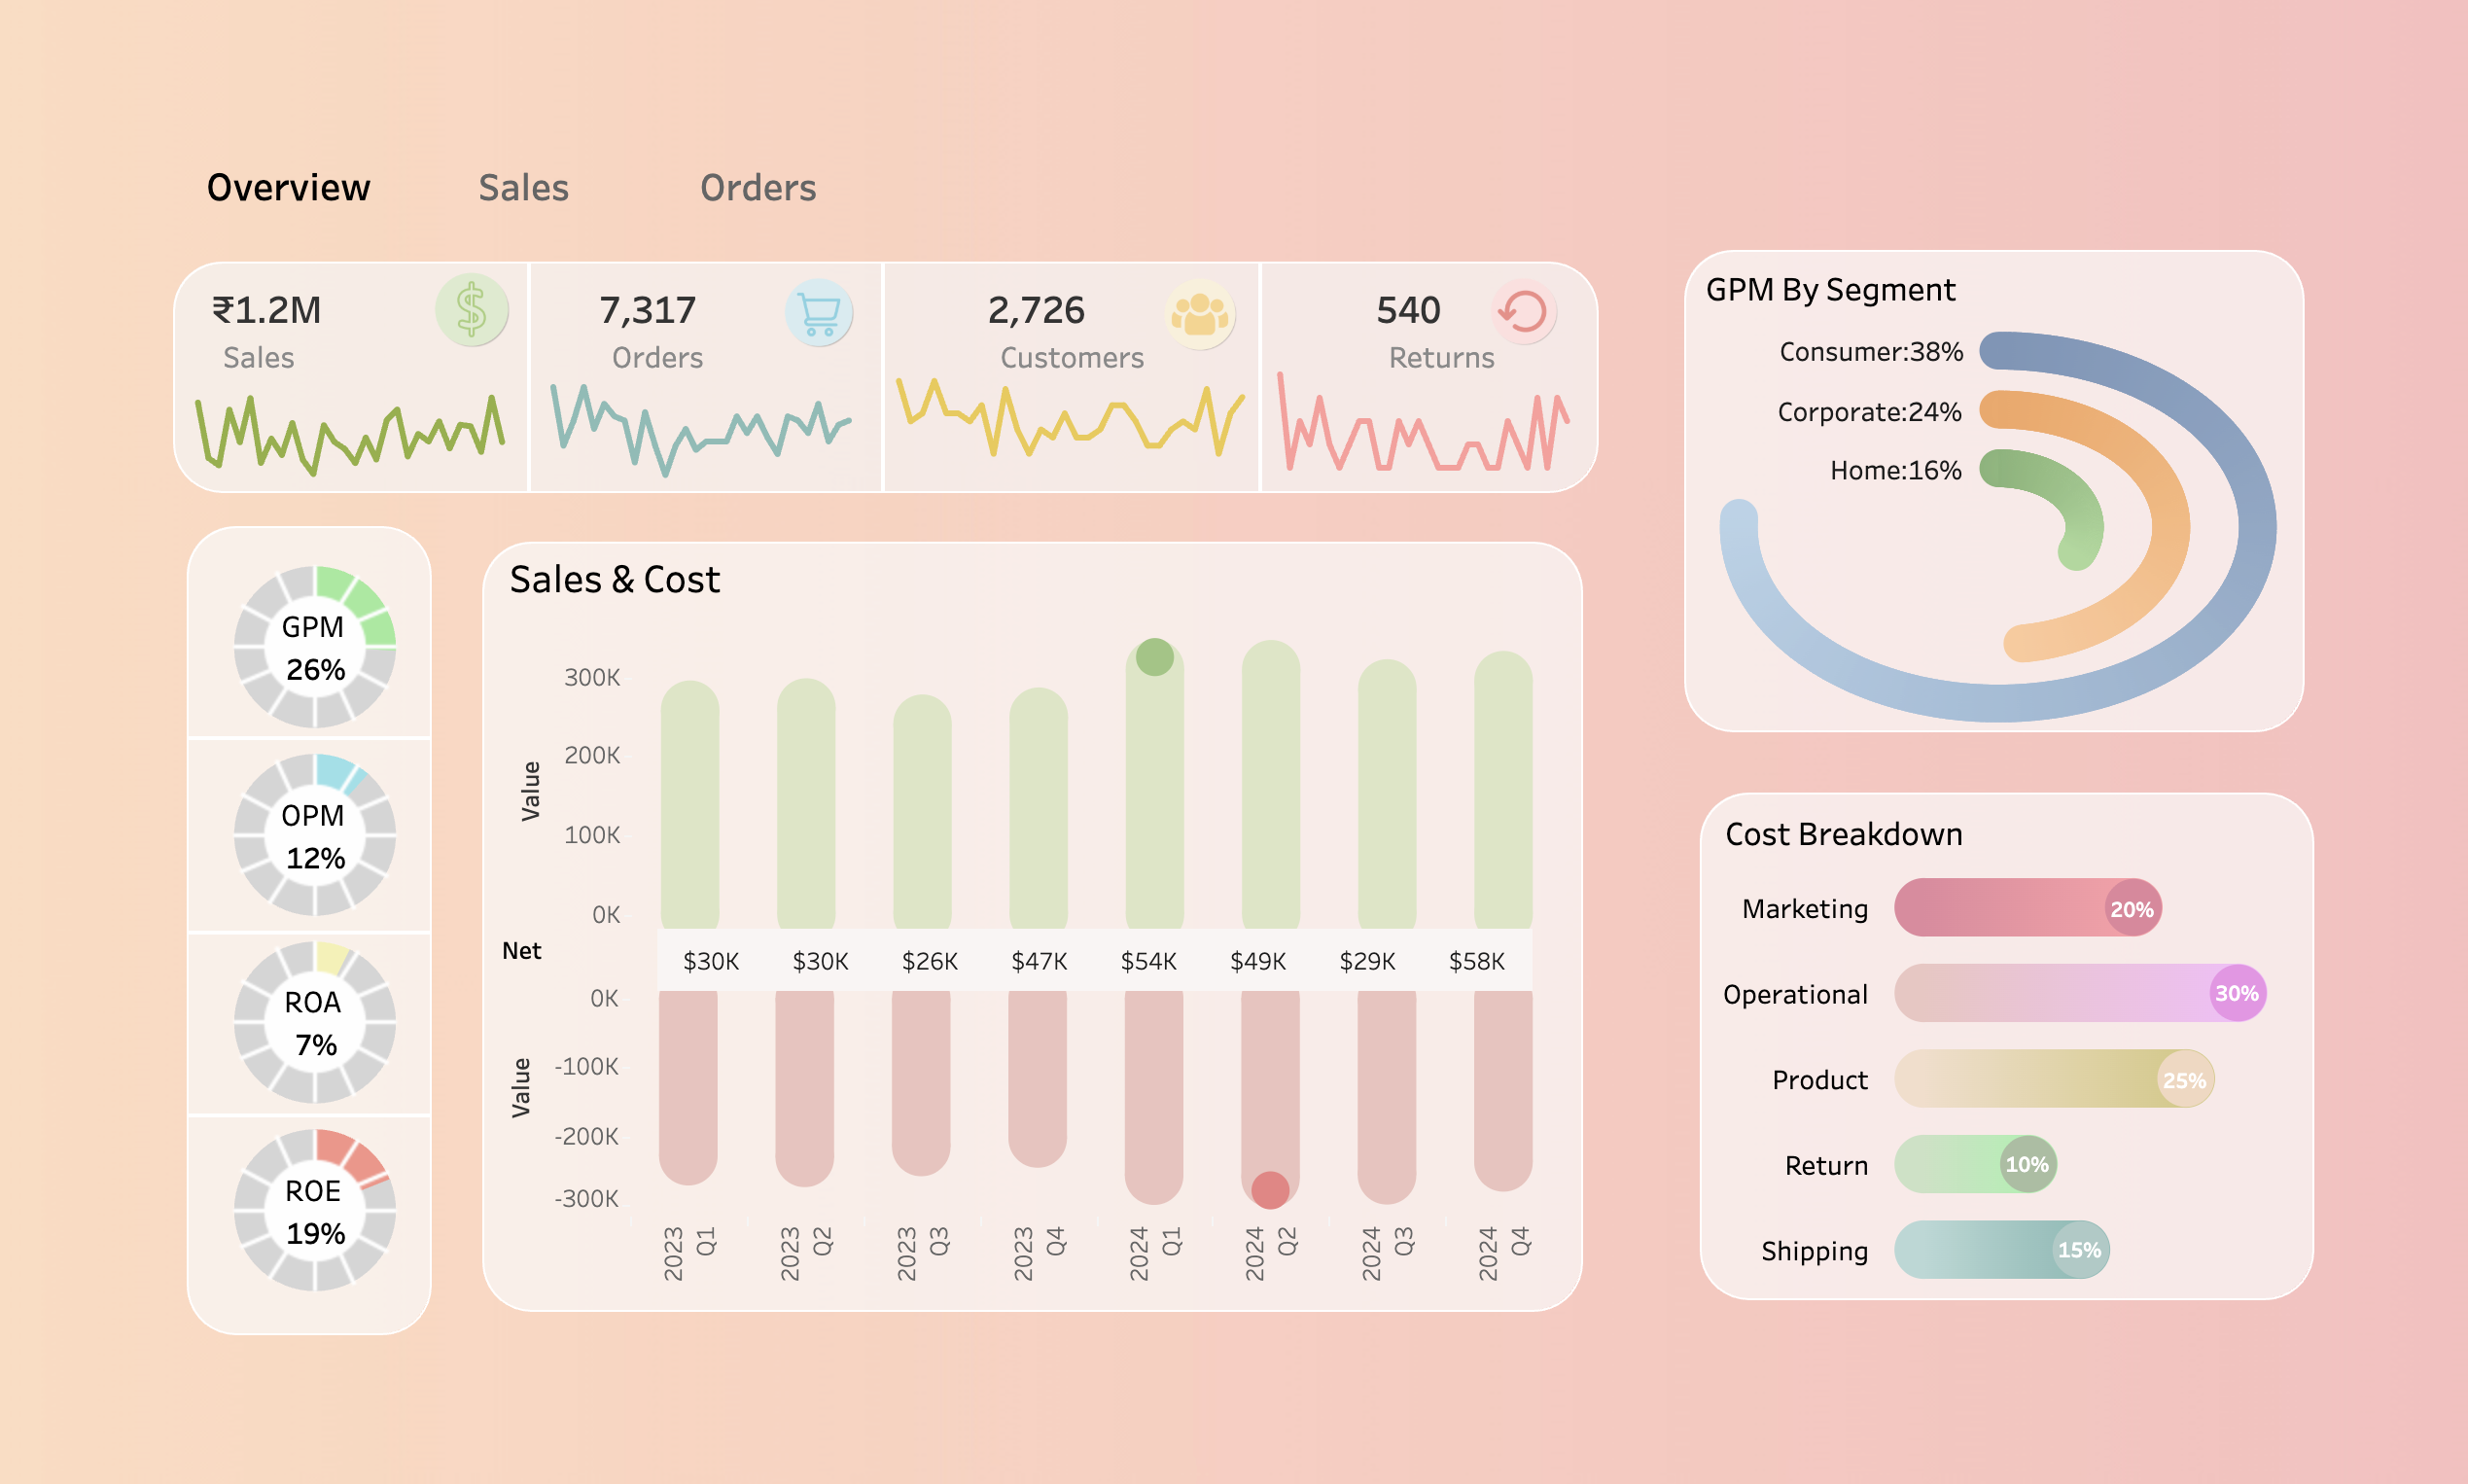

What the dashboard file says about the page in this screenshot:
{"tool":"tableau","page":{"name":"Overview","canvas":[1300,800],"ordinal":1},"visuals":[{"type":"image","param":"Image/Orange - Red Background.png","box":[8,8,1284,784]},{"type":"worksheet","title":"OvBack","mark":"Automatic","box":[64,45,1176,696]},{"type":"text","box":[103,86,121,47]},{"type":"dashboard-object","box":[224,86,121,47]},{"type":"dashboard-object","box":[345,86,120,47]},{"type":"text","box":[892,131,157,62]},{"type":"text","box":[286,149,2,119]},{"type":"text","box":[468,149,2,119]},{"type":"text","box":[662,149,2,119]},{"type":"worksheet","title":"KPI Metrics/Values","mark":"Automatic","box":[119,153,799,62]},{"type":"image","param":"Image/Sales Icon.png","box":[237,153,42,41]},{"type":"image","param":"Image/Orders Icon.png","box":[417,156,40,38]},{"type":"image","param":"Image/Customer Icon.png","box":[612,156,40,41]},{"type":"image","param":"Image/Returns Icon.png","box":[780,156,42,37]},{"type":"worksheet","title":"Radial","mark":"Line","box":[886,176,313,219]},{"type":"worksheet","title":"Spark-Returns","mark":"Automatic","rows":["Returns"],"cols":["Order Date"],"box":[663,195,168,72]},{"type":"worksheet","title":"Spark-Customers","mark":"Automatic","rows":["Customer ID"],"cols":["Order Date"],"box":[465,202,201,75]},{"type":"worksheet","title":"Spark-Orders","mark":"Automatic","rows":["Order ID"],"cols":["Order Date"],"box":[289,207,173,69]},{"type":"worksheet","title":"Spark-Sales","mark":"Automatic","rows":["Sales"],"cols":["Order Date"],"box":[106,215,178,52]},{"type":"text","box":[277,280,123,62]},{"type":"worksheet","title":"Seg Donuts","mark":"Automatic","rows":["Metric"],"cols":["Calculation_540150528706621445","Calculation_540150528706629639"],"box":[119,299,116,386]},{"type":"worksheet","title":"Sales Bar","mark":"Automatic","rows":["Sales"],"cols":["Order Date"],"box":[272,337,546,169]},{"type":"text","box":[111,393,125,2]},{"type":"text","box":[902,411,157,62]},{"type":"worksheet","title":"Bars with Bubbles","mark":"Automatic","rows":["Type of Cost"],"cols":["Cost"],"box":[901,459,288,220]},{"type":"text","box":[273,472,123,62]},{"type":"worksheet","title":"Net","mark":"Automatic","cols":["Calculation_540150528714313744"],"box":[353,492,450,32]},{"type":"text","box":[111,493,125,2]},{"type":"worksheet","title":"Cost Bar","mark":"Automatic","rows":["Calculation_580471819169869830"],"cols":["Quarter-Year"],"box":[267,508,551,177]},{"type":"text","box":[111,587,125,2]}]}

Visuals, with their boxes in screenshot pixels (x1, y1, x2, y2), scaled from the page's 1300x800 canvas onto the 2468x1484 screenshot:
image: bbox=[16, 15, 2452, 1469]
"OvBack" worksheet: bbox=[122, 84, 2354, 1374]
text: bbox=[195, 159, 425, 247]
dashboard-object: bbox=[425, 159, 655, 247]
dashboard-object: bbox=[655, 159, 883, 247]
text: bbox=[1693, 243, 1992, 358]
text: bbox=[543, 276, 546, 497]
text: bbox=[889, 276, 893, 497]
text: bbox=[1256, 276, 1260, 497]
"KPI Metrics/Values" worksheet: bbox=[226, 284, 1743, 399]
image: bbox=[450, 284, 530, 360]
image: bbox=[792, 290, 867, 360]
image: bbox=[1162, 290, 1238, 366]
image: bbox=[1481, 290, 1561, 358]
"Radial" worksheet (Line marks): bbox=[1682, 327, 2276, 732]
"Spark-Returns" worksheet: bbox=[1258, 362, 1577, 495]
"Spark-Customers" worksheet: bbox=[883, 374, 1264, 513]
"Spark-Orders" worksheet: bbox=[548, 384, 877, 512]
"Spark-Sales" worksheet: bbox=[201, 399, 539, 495]
text: bbox=[526, 519, 759, 634]
"Seg Donuts" worksheet: bbox=[226, 554, 446, 1271]
"Sales Bar" worksheet: bbox=[516, 625, 1553, 938]
text: bbox=[211, 729, 448, 732]
text: bbox=[1712, 762, 2010, 877]
"Bars with Bubbles" worksheet: bbox=[1710, 852, 2257, 1259]
text: bbox=[518, 875, 752, 991]
"Net" worksheet: bbox=[670, 912, 1525, 972]
text: bbox=[211, 914, 448, 918]
"Cost Bar" worksheet: bbox=[507, 942, 1553, 1271]
text: bbox=[211, 1089, 448, 1093]
